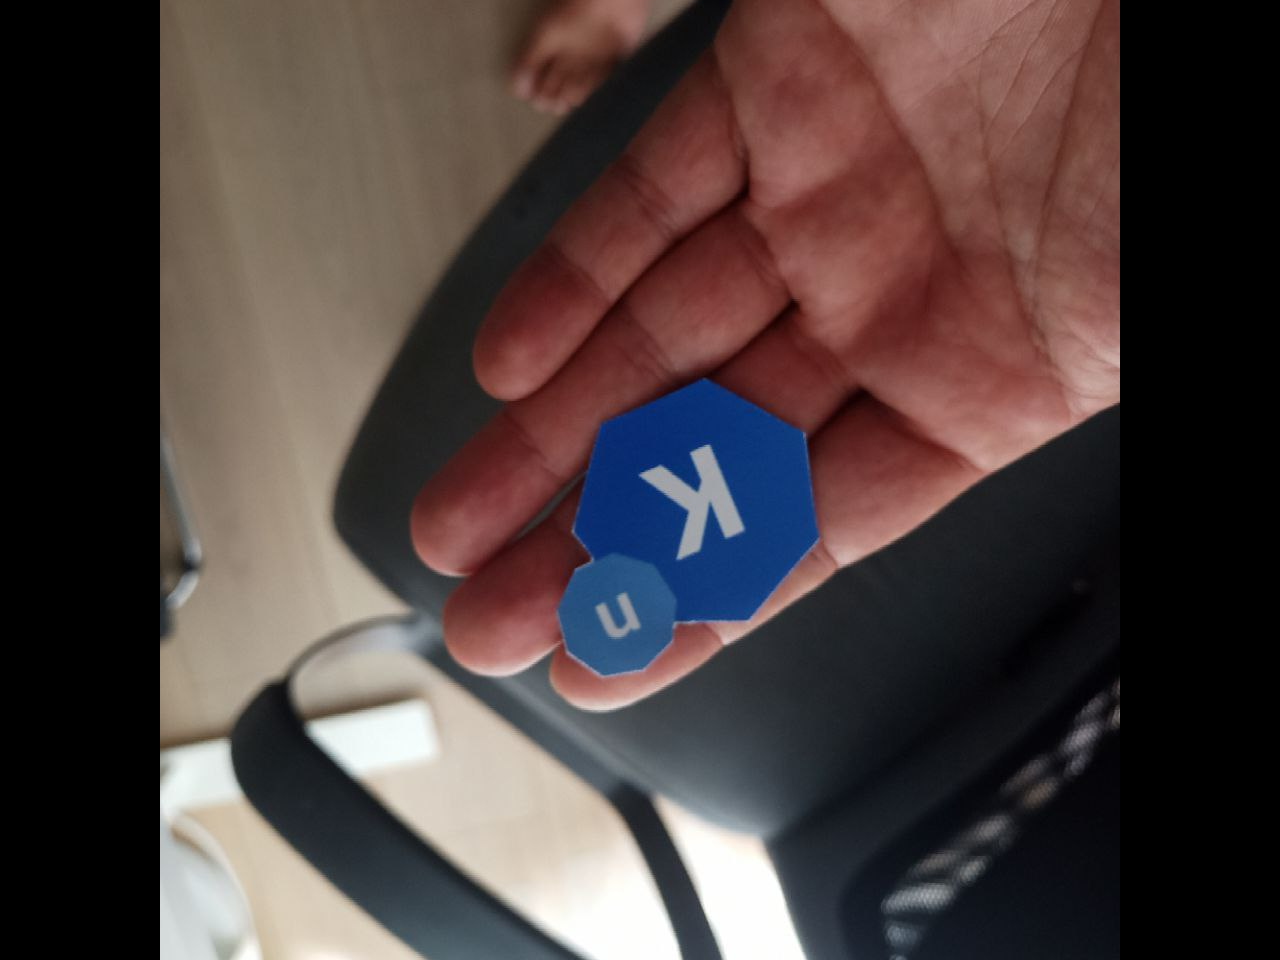knative: (551, 376, 820, 682)
